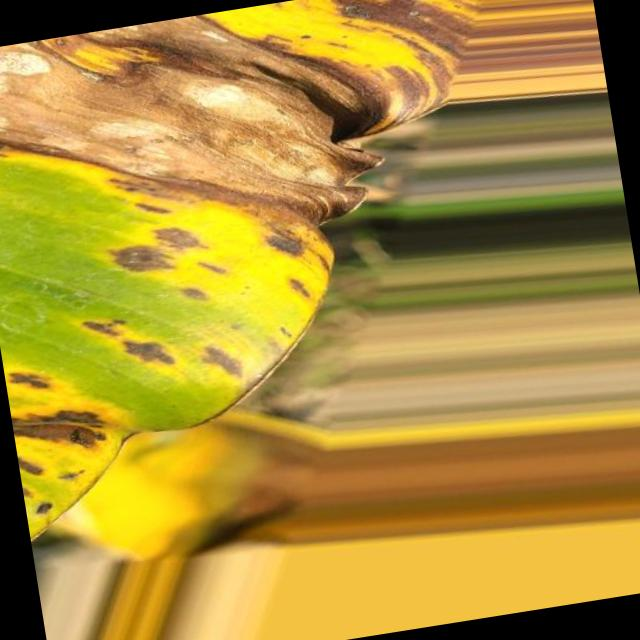Banana_Black_Sigatoka: (0, 0, 465, 283), (0, 262, 240, 544)
